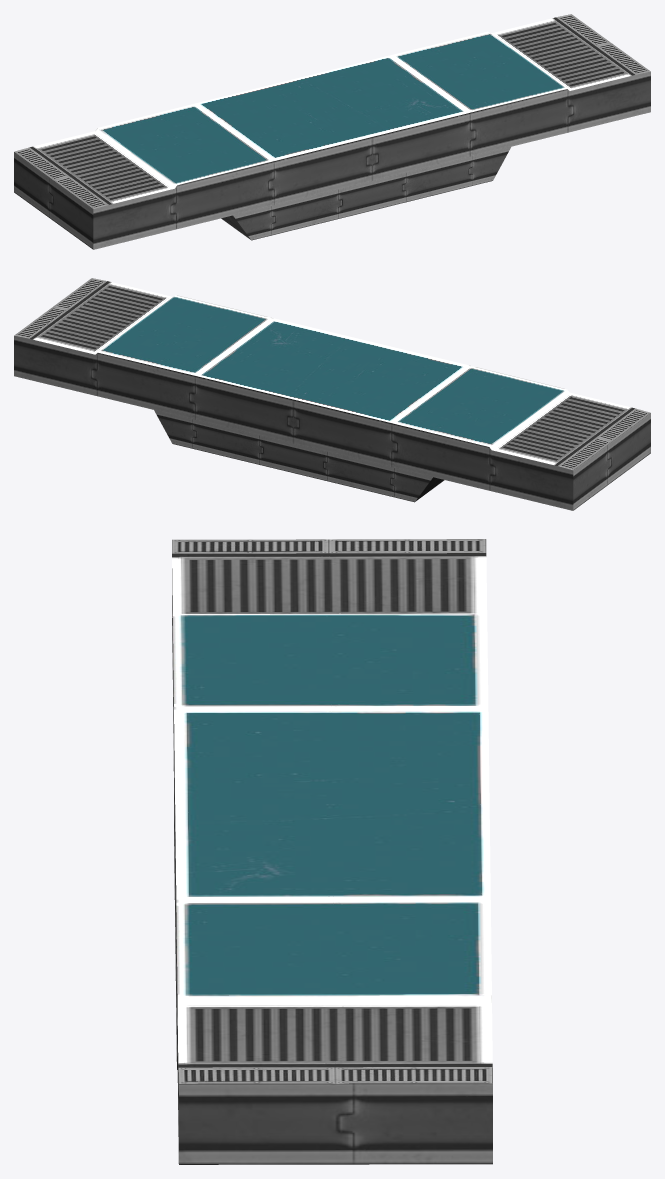
The model's file is ARC1110023.fbx.
3 views of the same model, one above another, from view 1: azimuth 30°, elevation 25°; view 2: azimuth 150°, elevation 25°; view 3: azimuth 270°, elevation 25° (orthographic). The views are drawn at different scales.
Visible parts, largest first — view 1: smARC1110023; view 2: smARC1110023; view 3: smARC1110023.
Boxes of the visible parts, x1,y1,x2,y2 form: smARC1110023: [14, 14, 650, 249]; smARC1110023: [14, 278, 650, 510]; smARC1110023: [172, 539, 492, 1164].
Size of the model in its own units: 529 by 66.69 by 132.
Materials: 1 (1 with a texture image).
